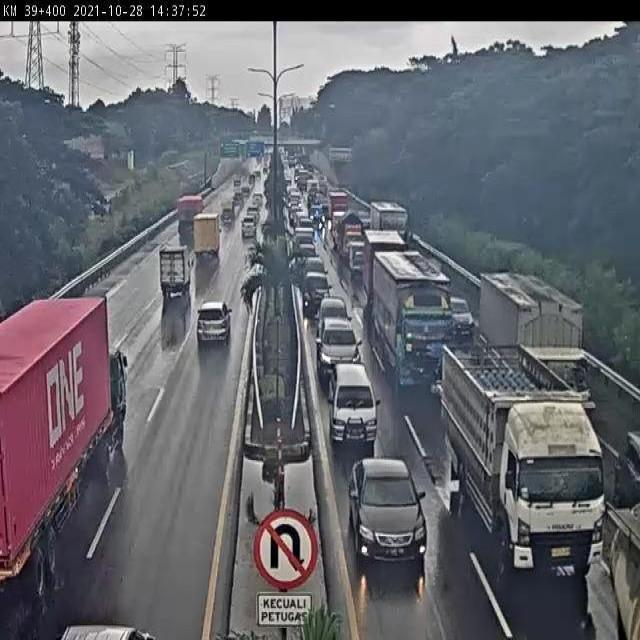car: (156, 242, 189, 294)
truck: (444, 335, 605, 575), (480, 273, 592, 423), (372, 249, 455, 387), (193, 209, 222, 259), (175, 192, 204, 232)
